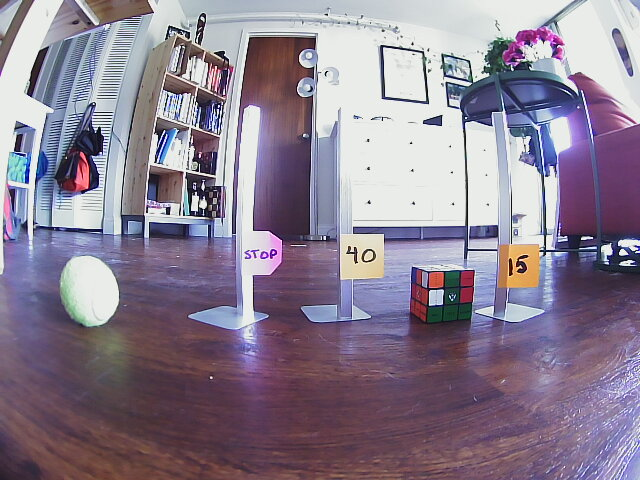15: (495, 241, 541, 291)
40: (336, 232, 389, 280)
ball: (57, 254, 121, 329)
cube: (408, 265, 478, 325)
stop: (235, 230, 287, 278)
